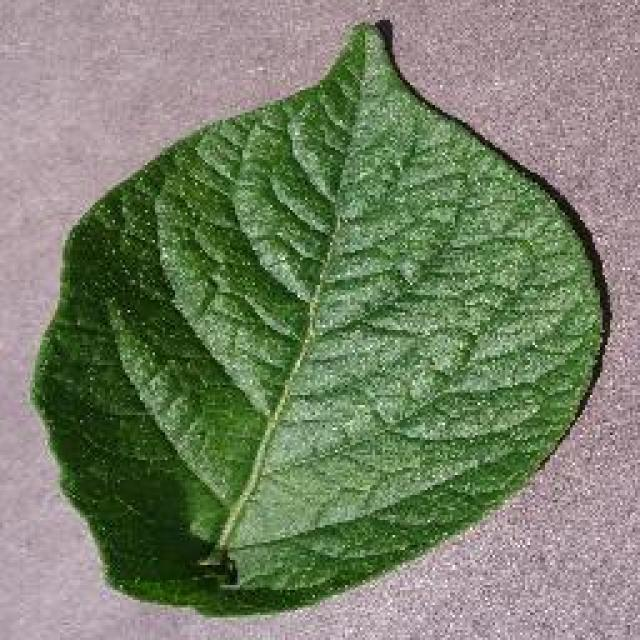Potato: (28, 18, 612, 618)
